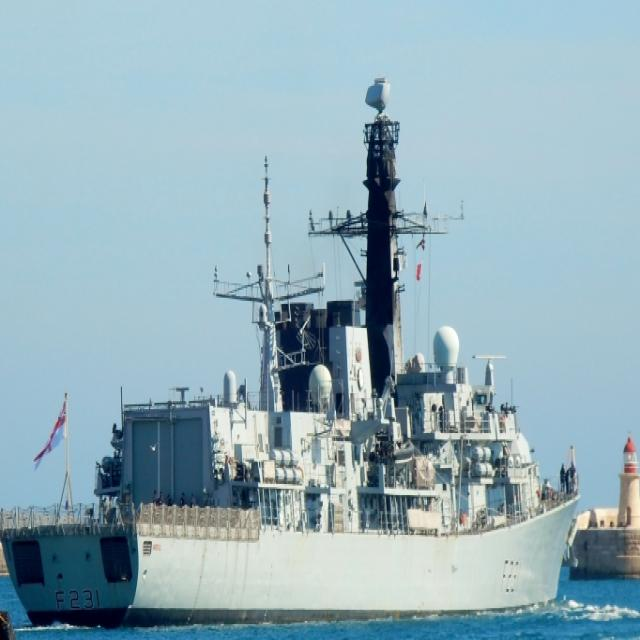Fragata: (1, 44, 588, 640)
